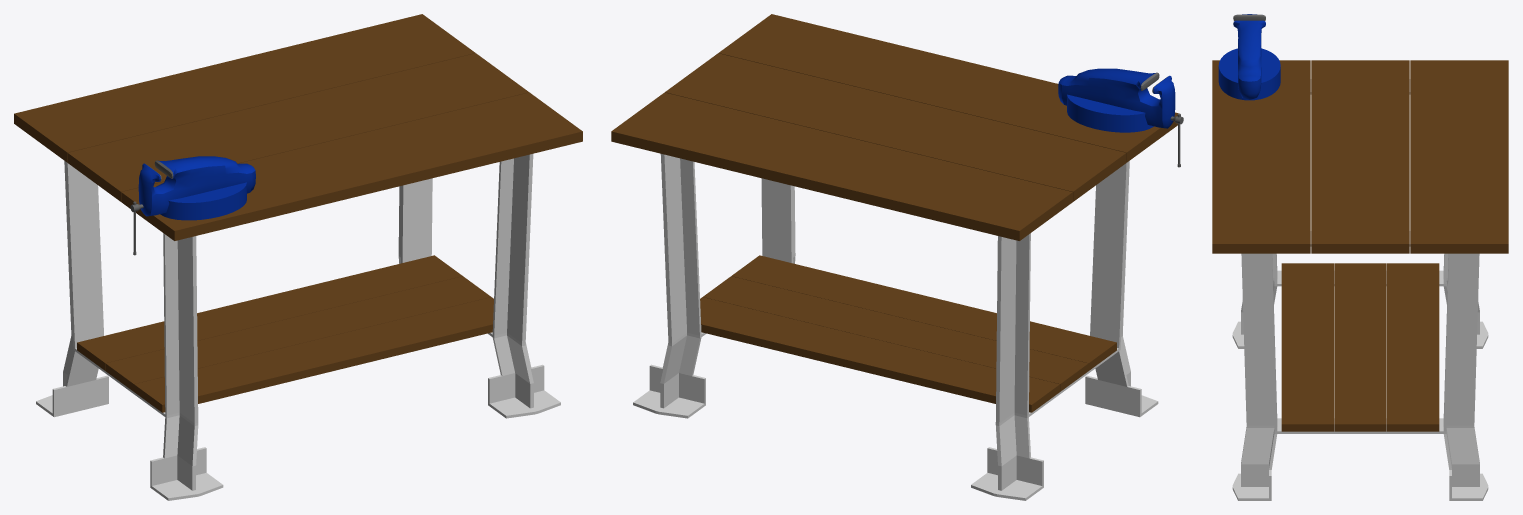
The model's file is workbench.fbx.
The picture shows the model from 3 angles, left to right: view 1: azimuth 30°, elevation 25°; view 2: azimuth 150°, elevation 25°; view 3: azimuth 270°, elevation 25°; orthographic projection. The views are drawn at different scales.
Visible parts, largest first — view 1: Metal Frame; view 2: Metal Frame; view 3: Metal Frame.
Part boxes in pixels (<box>): Metal Frame: <box>14,14,582,500</box>; Metal Frame: <box>611,14,1183,500</box>; Metal Frame: <box>1212,14,1508,500</box>.
Size of the model in its own units: 166 by 121 by 107.
